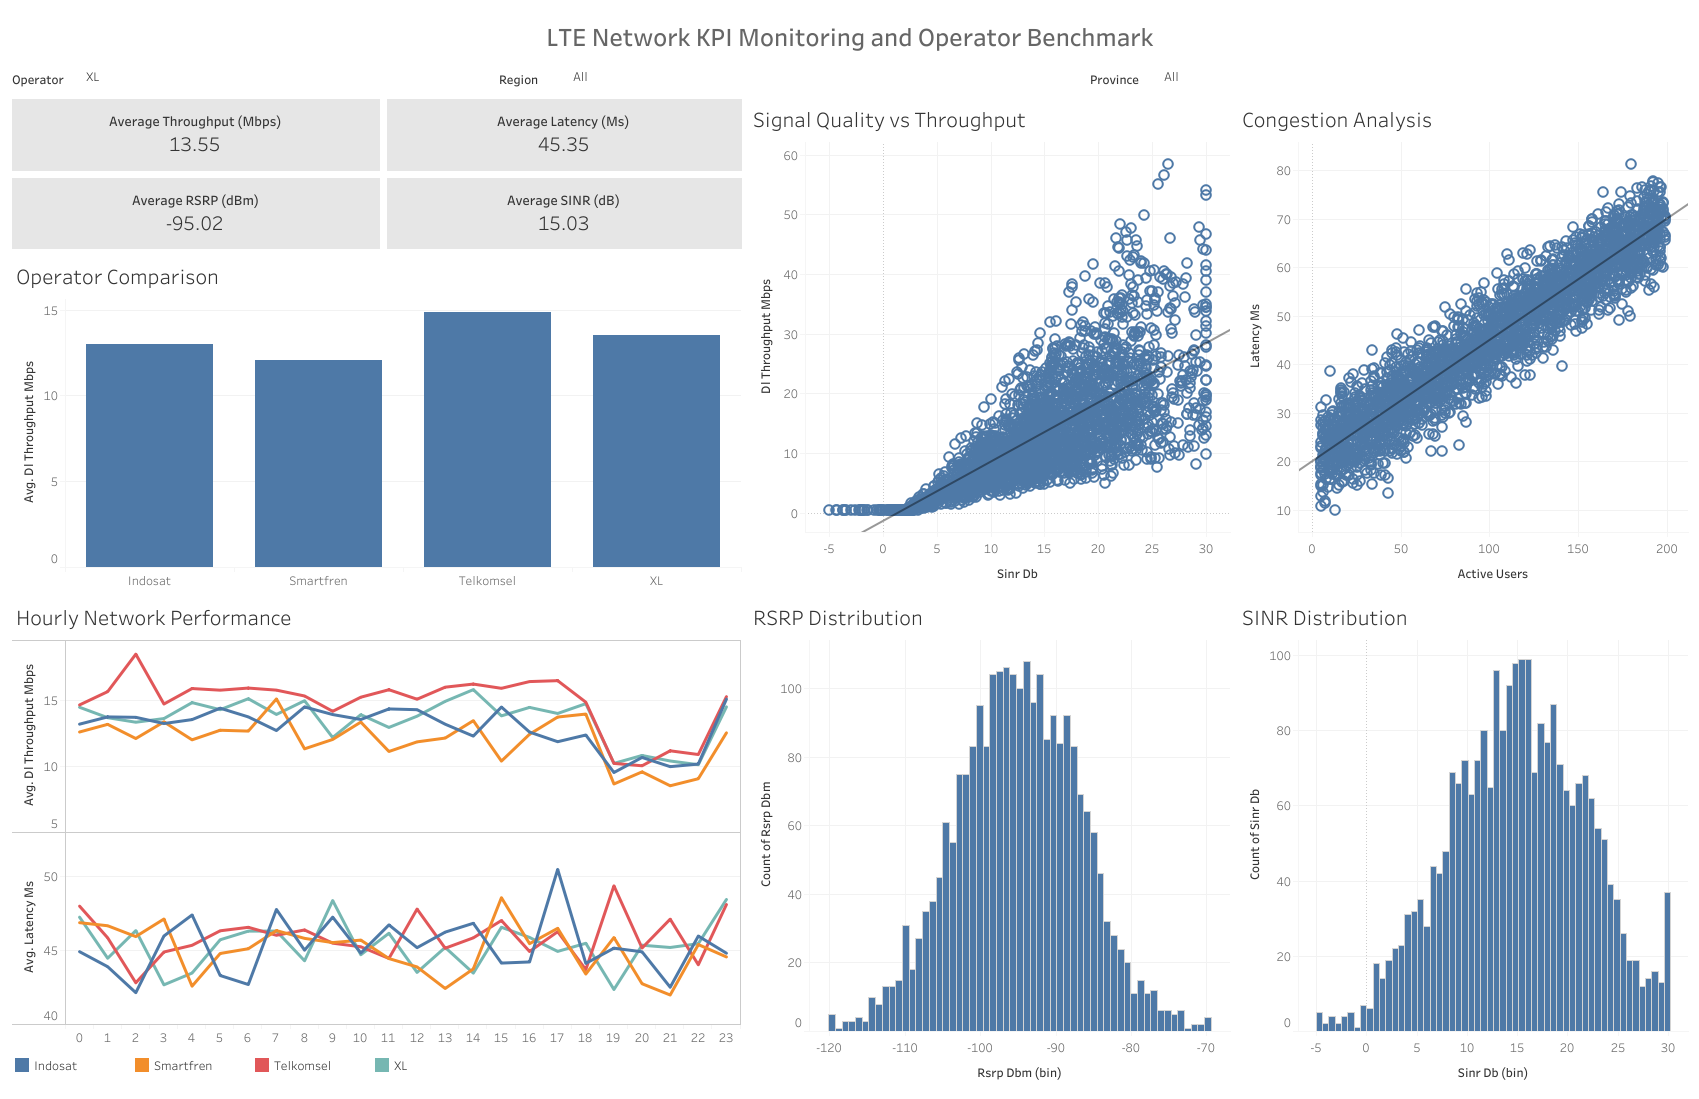

Layout of this report page (visuals, bound fields, positions):
{"tool":"tableau","page":{"name":"Dashboard 1","canvas":[1700,1100],"ordinal":0},"visuals":[{"type":"text","box":[8,8,1684,55]},{"type":"filter","title":"Sheet 2","param":"[federated.0xyy3wd1033amw15uma821ujb96u].[none:operator:nk]","box":[8,63,486.9,32.1]},{"type":"filter","title":"Sheet 3","param":"[federated.0xyy3wd1033amw15uma821ujb96u].[none:region:nk]","box":[494.9,63,591.1,32.1]},{"type":"filter","title":"Sheet 3","param":"[federated.0xyy3wd1033amw15uma821ujb96u].[none:province:nk]","box":[1086,63,606,32.1]},{"type":"worksheet","title":"Sheet 7","mark":"Automatic","box":[8,95.1,375.2,78.5]},{"type":"worksheet","title":"Sheet 8","mark":"Automatic","box":[383.2,95.1,361.9,78.5]},{"type":"worksheet","title":"Sheet 3","mark":"Automatic","rows":["dl_throughput_mbps"],"cols":["sinr_db"],"box":[745.2,95.1,488.6,497.8]},{"type":"worksheet","title":"Sheet 2","mark":"Automatic","rows":["latency_ms"],"cols":["active_users"],"box":[1233.8,95.1,458.2,497.8]},{"type":"worksheet","title":"Sheet 9","mark":"Automatic","box":[8,173.5,375.2,78.5]},{"type":"worksheet","title":"Sheet 10","mark":"Automatic","box":[383.2,173.5,361.9,78.5]},{"type":"worksheet","title":"Sheet 1","mark":"Automatic","rows":["dl_throughput_mbps"],"cols":["operator"],"box":[8,252,737.2,340.9]},{"type":"worksheet","title":"Sheet 4","mark":"Automatic","rows":["dl_throughput_mbps","latency_ms"],"cols":["timestamp"],"box":[8,592.9,737.2,458.5]},{"type":"worksheet","title":"Sheet 5","mark":"Automatic","rows":["rsrp_dbm"],"cols":["Rsrp Dbm (bin)"],"box":[745.2,592.9,488.6,499.1]},{"type":"worksheet","title":"Sheet 6","mark":"Automatic","rows":["sinr_db"],"cols":["Sinr Db (bin)"],"box":[1233.8,592.9,458.2,499.1]},{"type":"legend","title":"Sheet 4","param":"[federated.0xyy3wd1033amw15uma821ujb96u].[none:operator:nk]","box":[8,1051.4,737.2,40.6]}]}

Visuals, with their boxes in screenshot pixels (x1, y1, x2, y2), scaled from the page's 1700x1100 canvas onto the 1699x1099 screenshot:
text: select_region(8, 8, 1691, 63)
"Sheet 2" filter: select_region(8, 63, 495, 95)
"Sheet 3" filter: select_region(495, 63, 1085, 95)
"Sheet 3" filter: select_region(1085, 63, 1691, 95)
"Sheet 7" worksheet: select_region(8, 95, 383, 173)
"Sheet 8" worksheet: select_region(383, 95, 745, 173)
"Sheet 3" worksheet: select_region(745, 95, 1233, 592)
"Sheet 2" worksheet: select_region(1233, 95, 1691, 592)
"Sheet 9" worksheet: select_region(8, 173, 383, 252)
"Sheet 10" worksheet: select_region(383, 173, 745, 252)
"Sheet 1" worksheet: select_region(8, 252, 745, 592)
"Sheet 4" worksheet: select_region(8, 592, 745, 1050)
"Sheet 5" worksheet: select_region(745, 592, 1233, 1091)
"Sheet 6" worksheet: select_region(1233, 592, 1691, 1091)
"Sheet 4" legend: select_region(8, 1050, 745, 1091)
